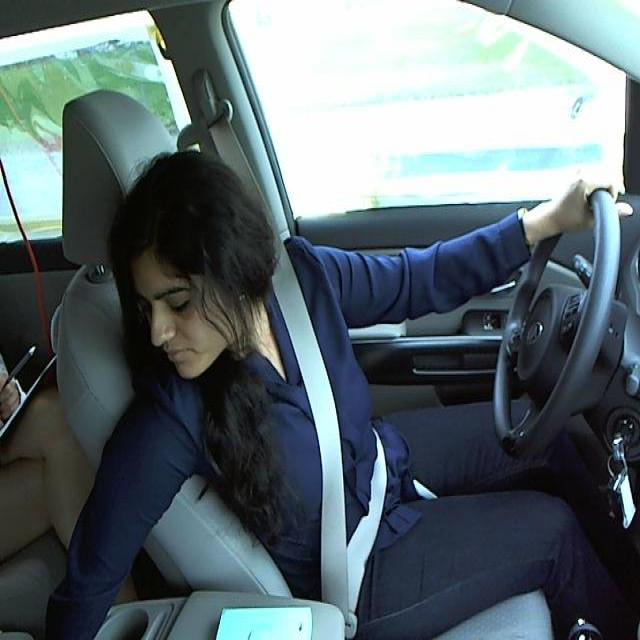seatbelt: (266, 286, 390, 630)
